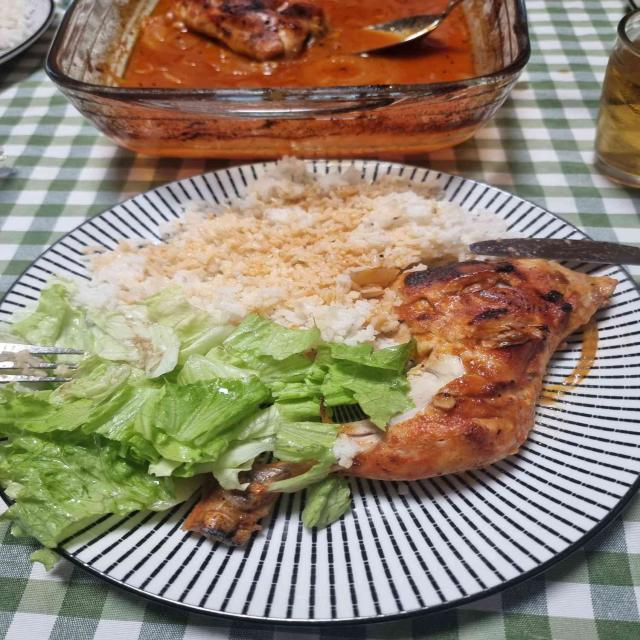chicken: (343, 260, 617, 480)
fork: (0, 343, 83, 382)
garbage: (182, 461, 309, 546)
knife: (469, 238, 640, 265)
lettuce: (0, 277, 411, 548)
plate: (0, 160, 640, 621)
rice: (76, 160, 512, 344)
